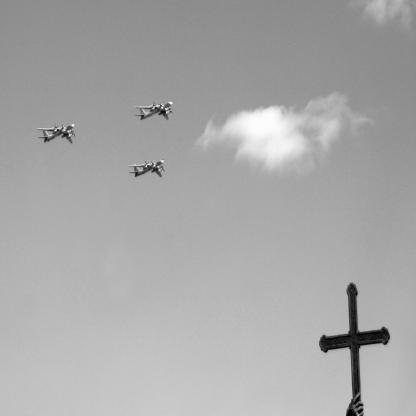Tu95: (37, 123, 77, 145), (135, 101, 175, 122), (128, 159, 166, 179)
